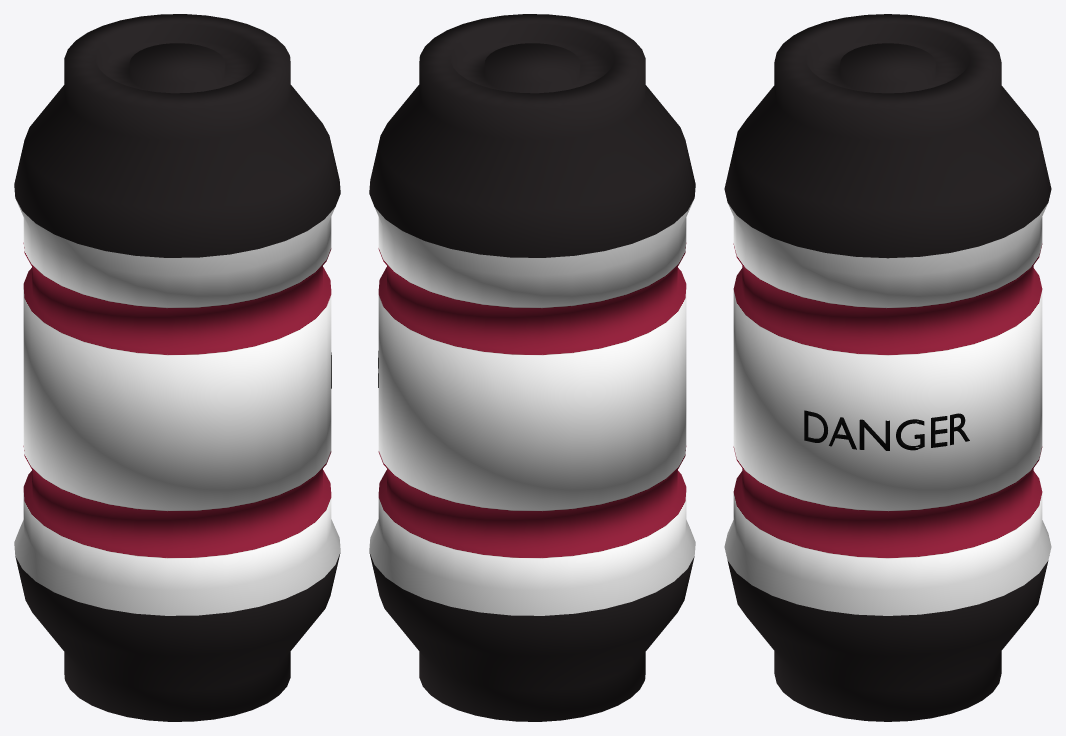
File: barrel.fbx
3 views of the same model, side by side, from view 1: azimuth 30°, elevation 25°; view 2: azimuth 150°, elevation 25°; view 3: azimuth 270°, elevation 25° (orthographic).
Visible parts, largest first — view 1: Barrel; view 2: Barrel; view 3: Barrel.
Part boxes in pixels (x1=…): Barrel: x1=14, y1=14, x2=340, y2=721; Barrel: x1=369, y1=14, x2=695, y2=721; Barrel: x1=724, y1=14, x2=1051, y2=721.
Bounding box in the file's own units: 1.02 × 2.12 × 1.02.
